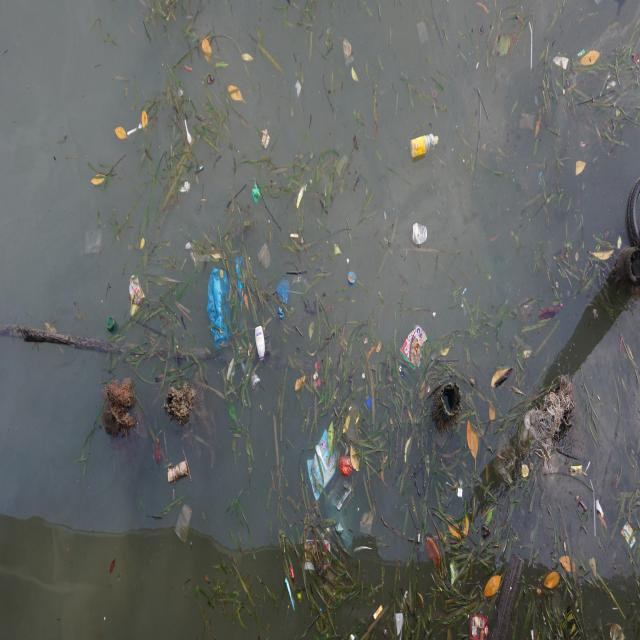Botol Plastik: (408, 127, 444, 168), (104, 312, 118, 336)
Bungkus Makanan: (402, 323, 430, 371), (303, 537, 332, 576), (129, 274, 146, 315), (620, 520, 638, 551), (471, 615, 491, 640)
Bungkus Minuman: (559, 603, 586, 640), (176, 505, 194, 547), (413, 223, 429, 247)
Kantong Plastik: (204, 262, 245, 352), (277, 279, 292, 322), (339, 452, 355, 478)
